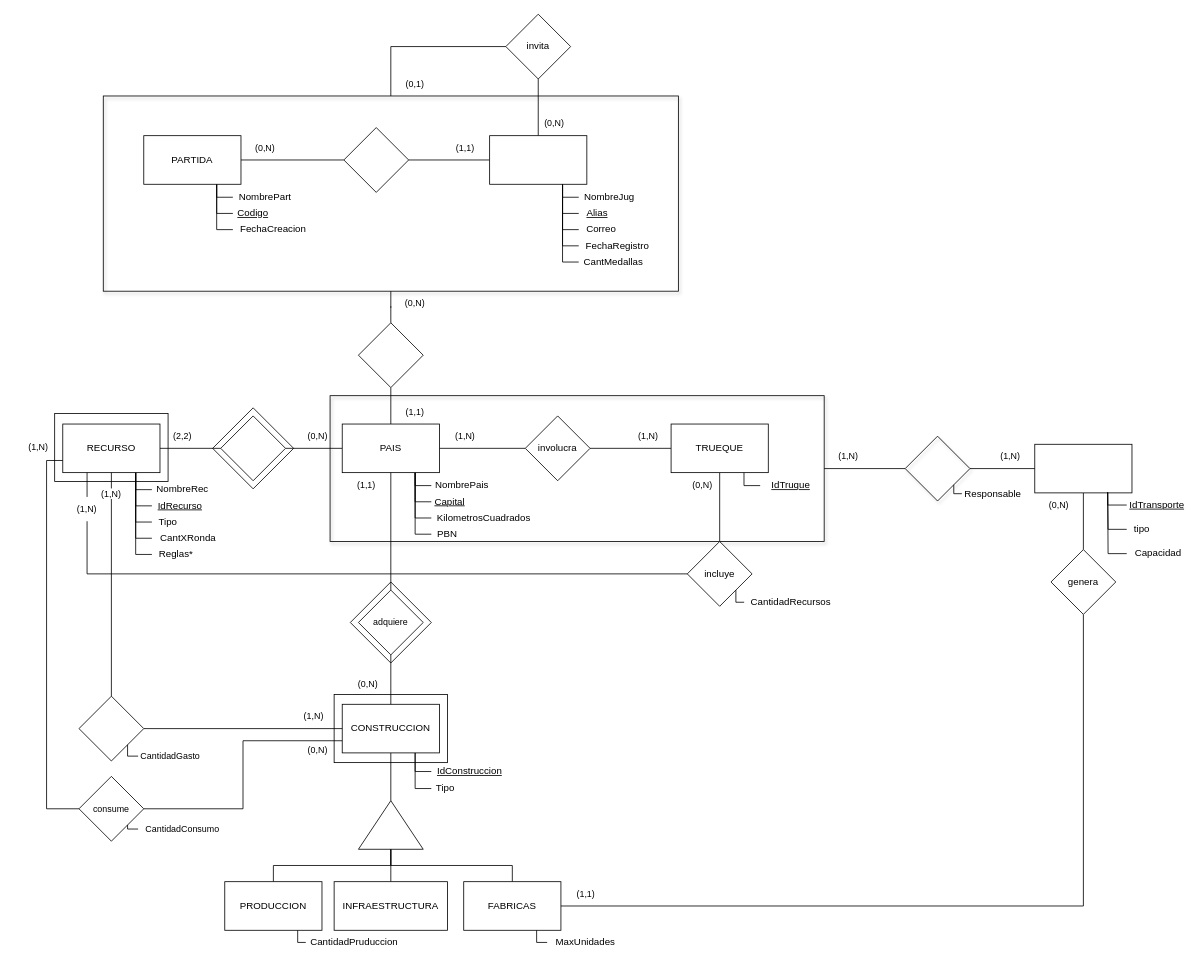
This 1202x969 diagram has some shape labels left out. Each missing label, with the centre of its shape:
"controla" goes at (390,355).
"crea" goes at (376,159).
"gasta" goes at (111,728).
"JUGADOR" goes at (538,159).
"tiene" goes at (253,448).
"TRANSPORTE" goes at (1083,468).
"Traslado" goes at (938,469).
